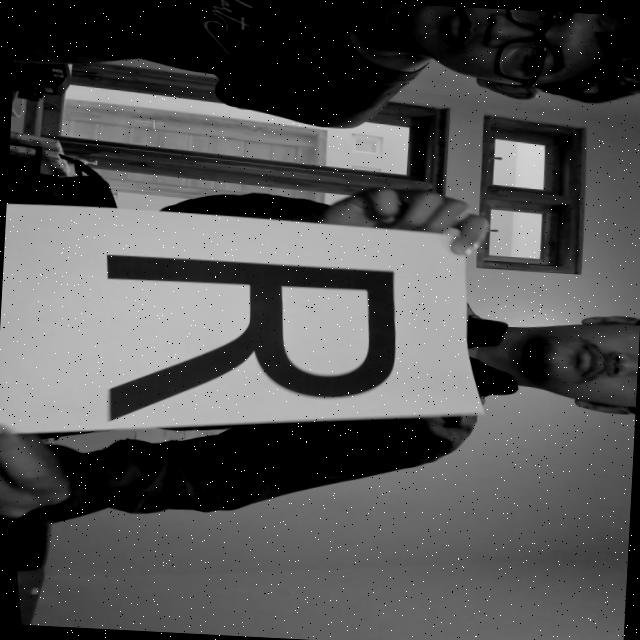r: (84, 230, 428, 438)
